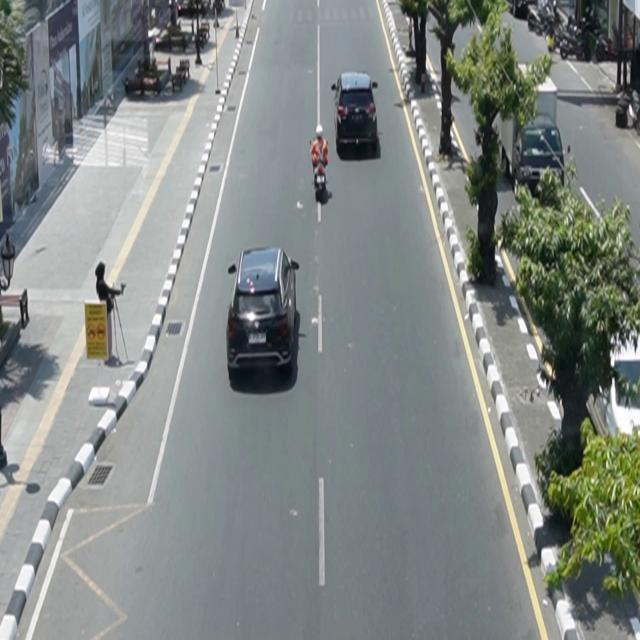car: (227, 246, 300, 376), (513, 114, 571, 200), (332, 71, 380, 154)
